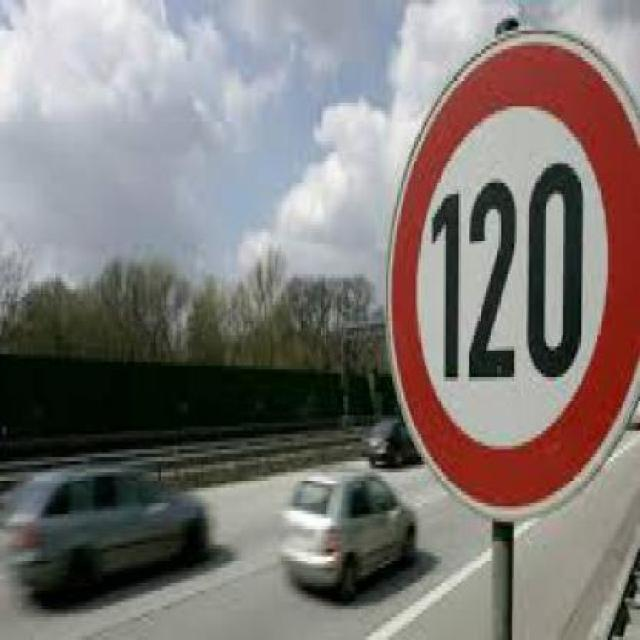forb_speed_over_120: (387, 40, 640, 514)
